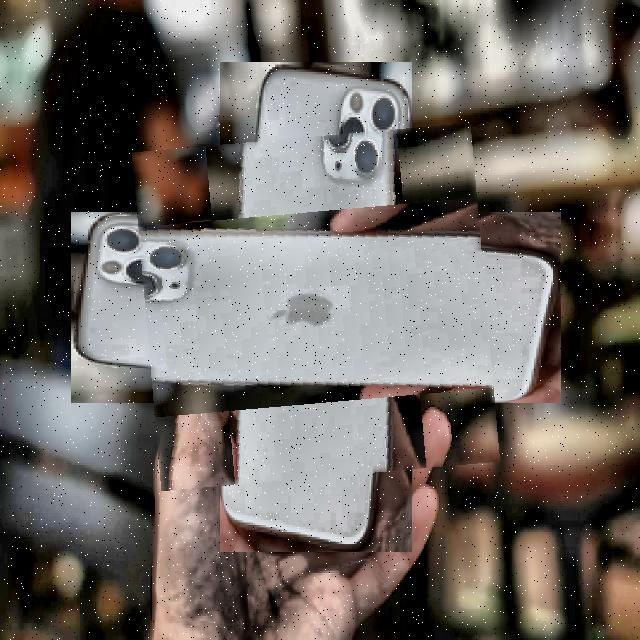Phone: (138, 130, 494, 484)
